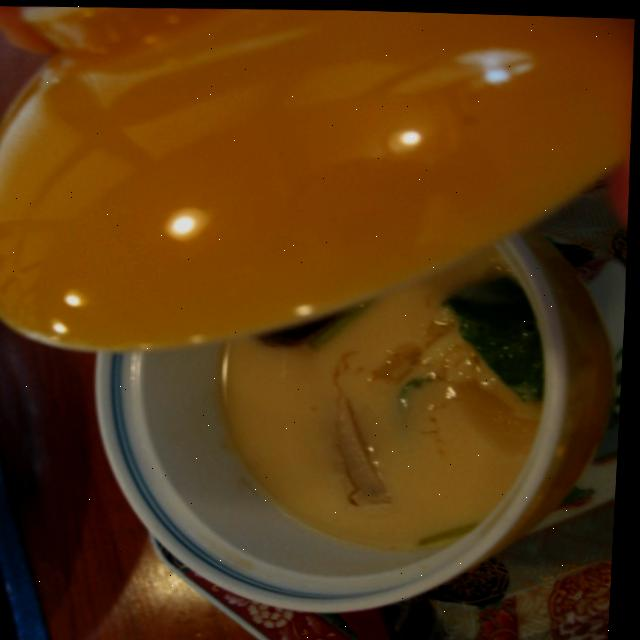鸡蛋料理: (48, 148, 634, 467)
